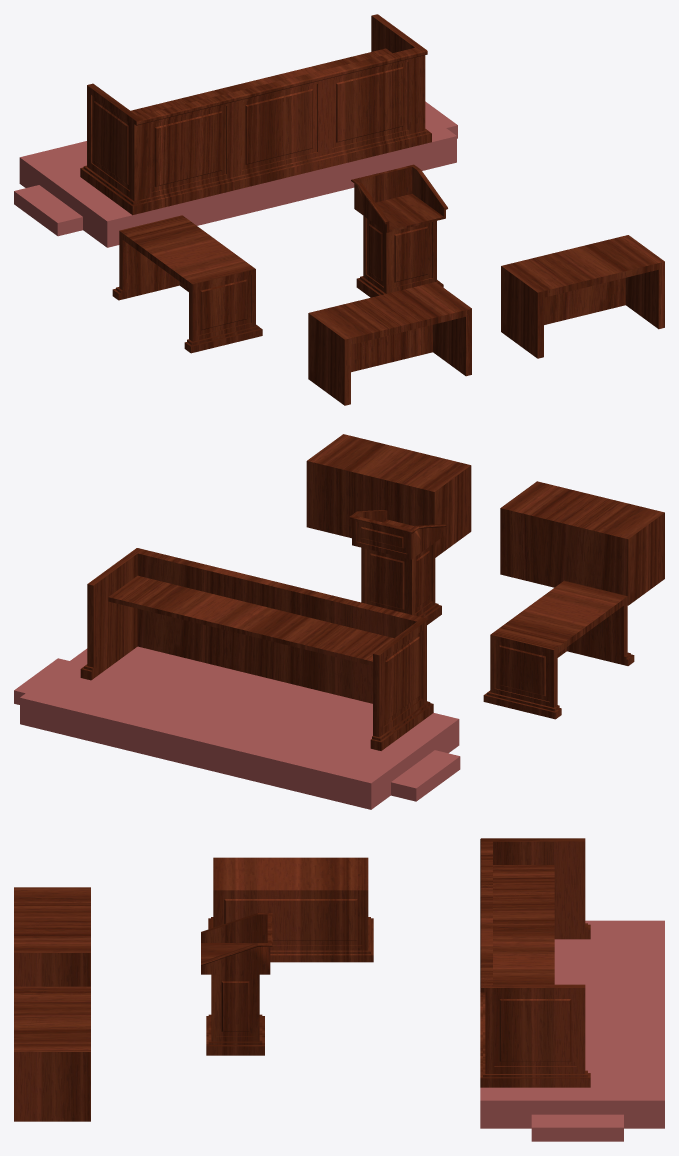
Rendered from courtroomdesksNov17.glb.
3 renders of one model, top to bottom at view 1: azimuth 30°, elevation 25°; view 2: azimuth 150°, elevation 25°; view 3: azimuth 270°, elevation 25°, orthographic. The views are drawn at different scales.
Parts seen in each view (by area): view 1: Moot Court Desks only; view 2: Moot Court Desks only; view 3: Moot Court Desks only.
Part boxes in pixels (x1=…): Moot Court Desks only: x1=14, y1=14, x2=664, y2=405; Moot Court Desks only: x1=14, y1=434, x2=664, y2=809; Moot Court Desks only: x1=14, y1=838, x2=664, y2=1141.
Bounding box in the file's own units: 200 × 54.31 × 254.
3 materials, 1 textured.
